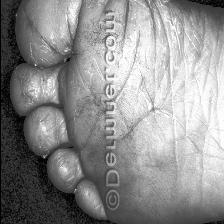Non-Cancerous Skin Condition: (17, 6, 57, 146), (128, 4, 168, 124)
